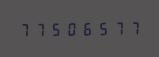five: (47, 20, 61, 37), (92, 19, 106, 36)
seven: (32, 20, 46, 37), (107, 19, 121, 36), (122, 19, 136, 36), (17, 21, 31, 37)
six: (77, 20, 91, 36)
zero: (62, 20, 76, 37)
